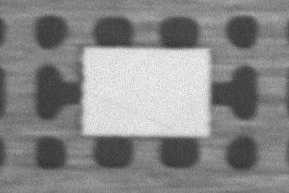DIE_CRACK: (130, 61, 256, 85)
